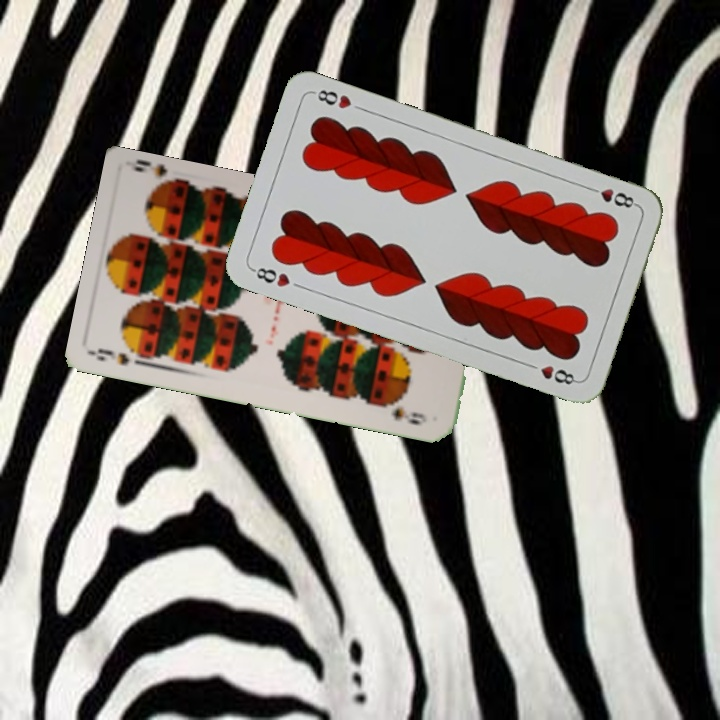H8: (583, 182, 640, 211), (248, 263, 293, 290)
S9: (90, 344, 149, 368)
